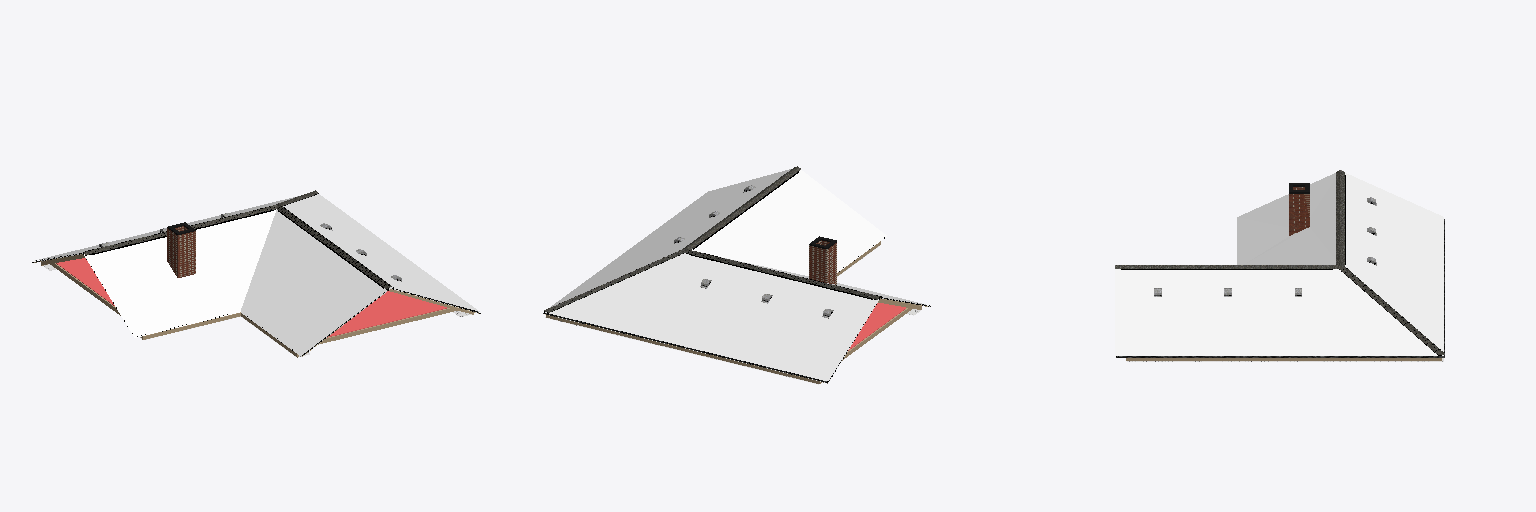
3 views of the same model, side by side, from view 1: azimuth 30°, elevation 25°; view 2: azimuth 150°, elevation 25°; view 3: azimuth 270°, elevation 25° (orthographic).
Parts seen in each view (by area): view 1: shinglesfront, lumber, shinglesback_2, ridge_2, ridge_3, shinglesback_1; view 2: shinglesback_1, shinglesfront, shinglesback_2, lumber, ridge_3, ridge_2, ridge_1; view 3: shinglesback_2, shinglesback_1, shinglesfront, lumber, ridge_2, ridge_3, ridge_1, starter_2.
Part boxes in pixels (left/top/right/bottom): shinglesfront: left=83, top=209, right=390, bottom=355; lumber: left=41, top=226, right=473, bottom=357; shinglesback_2: left=283, top=194, right=479, bottom=311; ridge_2: left=277, top=205, right=393, bottom=289; ridge_3: left=83, top=205, right=277, bottom=255; shinglesback_1: left=35, top=196, right=297, bottom=260; shinglesback_1: left=544, top=253, right=879, bottom=381; shinglesfront: left=692, top=170, right=929, bottom=305; shinglesback_2: left=550, top=169, right=790, bottom=307; lumber: left=546, top=240, right=921, bottom=383; ridge_3: left=684, top=249, right=881, bottom=299; ridge_2: left=683, top=166, right=800, bottom=249; ridge_1: left=544, top=249, right=684, bottom=312; shinglesback_2: left=1115, top=269, right=1443, bottom=355; shinglesback_1: left=1345, top=173, right=1443, bottom=351; shinglesfront: left=1237, top=173, right=1335, bottom=264; lumber: left=1126, top=187, right=1441, bottom=360; ridge_2: left=1115, top=265, right=1339, bottom=268; ridge_3: left=1336, top=170, right=1344, bottom=265; ridge_1: left=1339, top=265, right=1444, bottom=355; starter_2: left=1116, top=356, right=1443, bottom=357.
Bounding box in the file's own units: 1188 × 291 × 1189.
Materials: 24 (7 with a texture image).